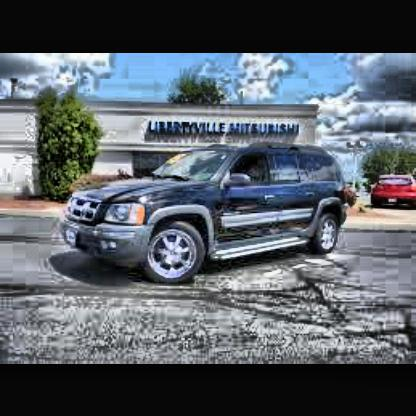Isuzu Ascender SUV 2008: (60, 149, 350, 283)
